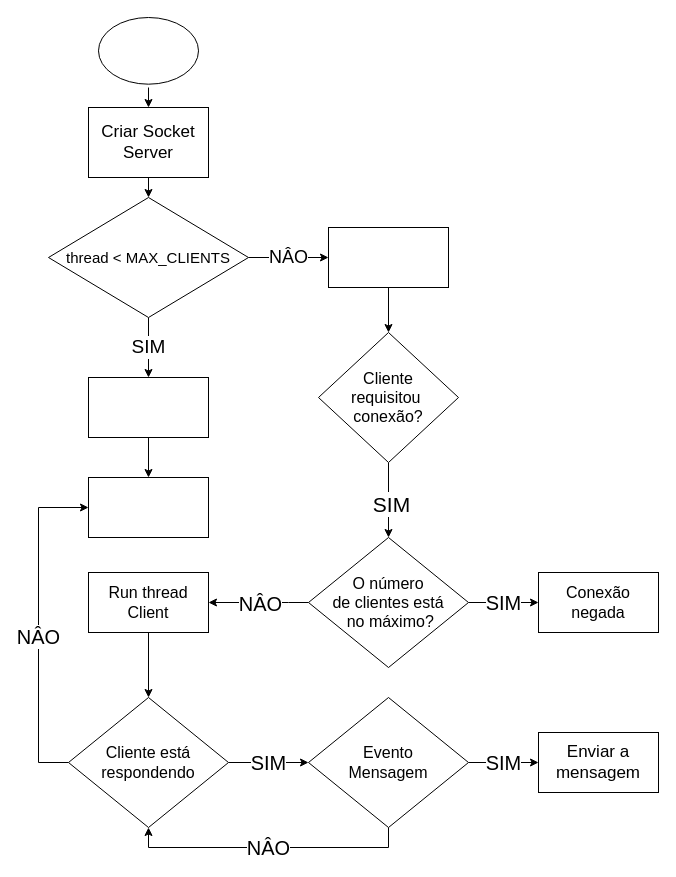
This 676x877 diagram has some shape labels left out. Each missing label, with the box of its shape:
Criar thread Cliente: (88, 376, 208, 438)
Domir thread Cliente: (88, 476, 208, 538)
main( ): (98, 16, 198, 84)
Socket server aceitando conexão: (328, 226, 448, 288)
